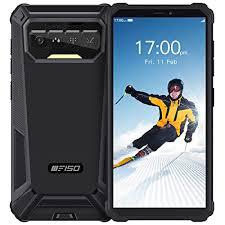Smartphone: (14, 4, 111, 221), (112, 6, 208, 215)
